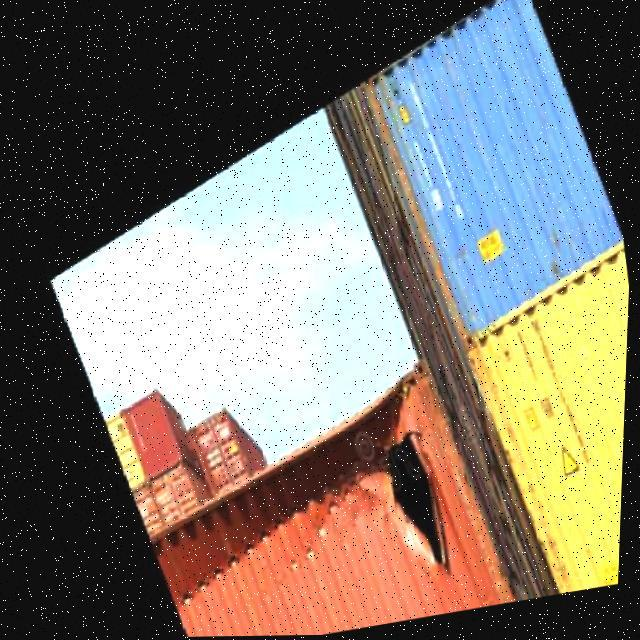dent: (228, 387, 423, 523)
